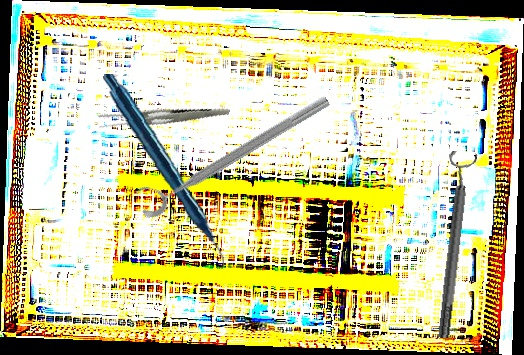Dressing Forceps: (95, 78, 231, 158)
Fixation Ring: (130, 79, 334, 223), (427, 150, 480, 340)
Handpiece: (90, 73, 237, 270)
